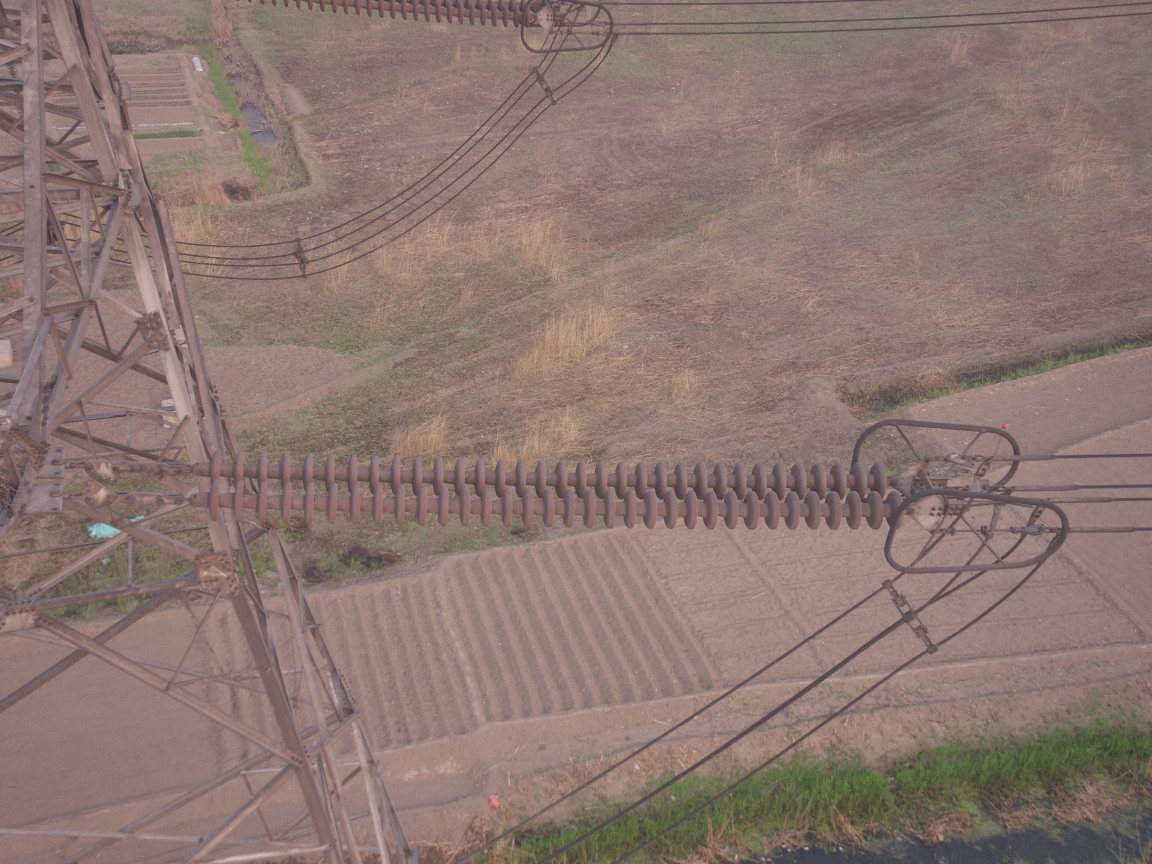insulator: (147, 442, 920, 533)
